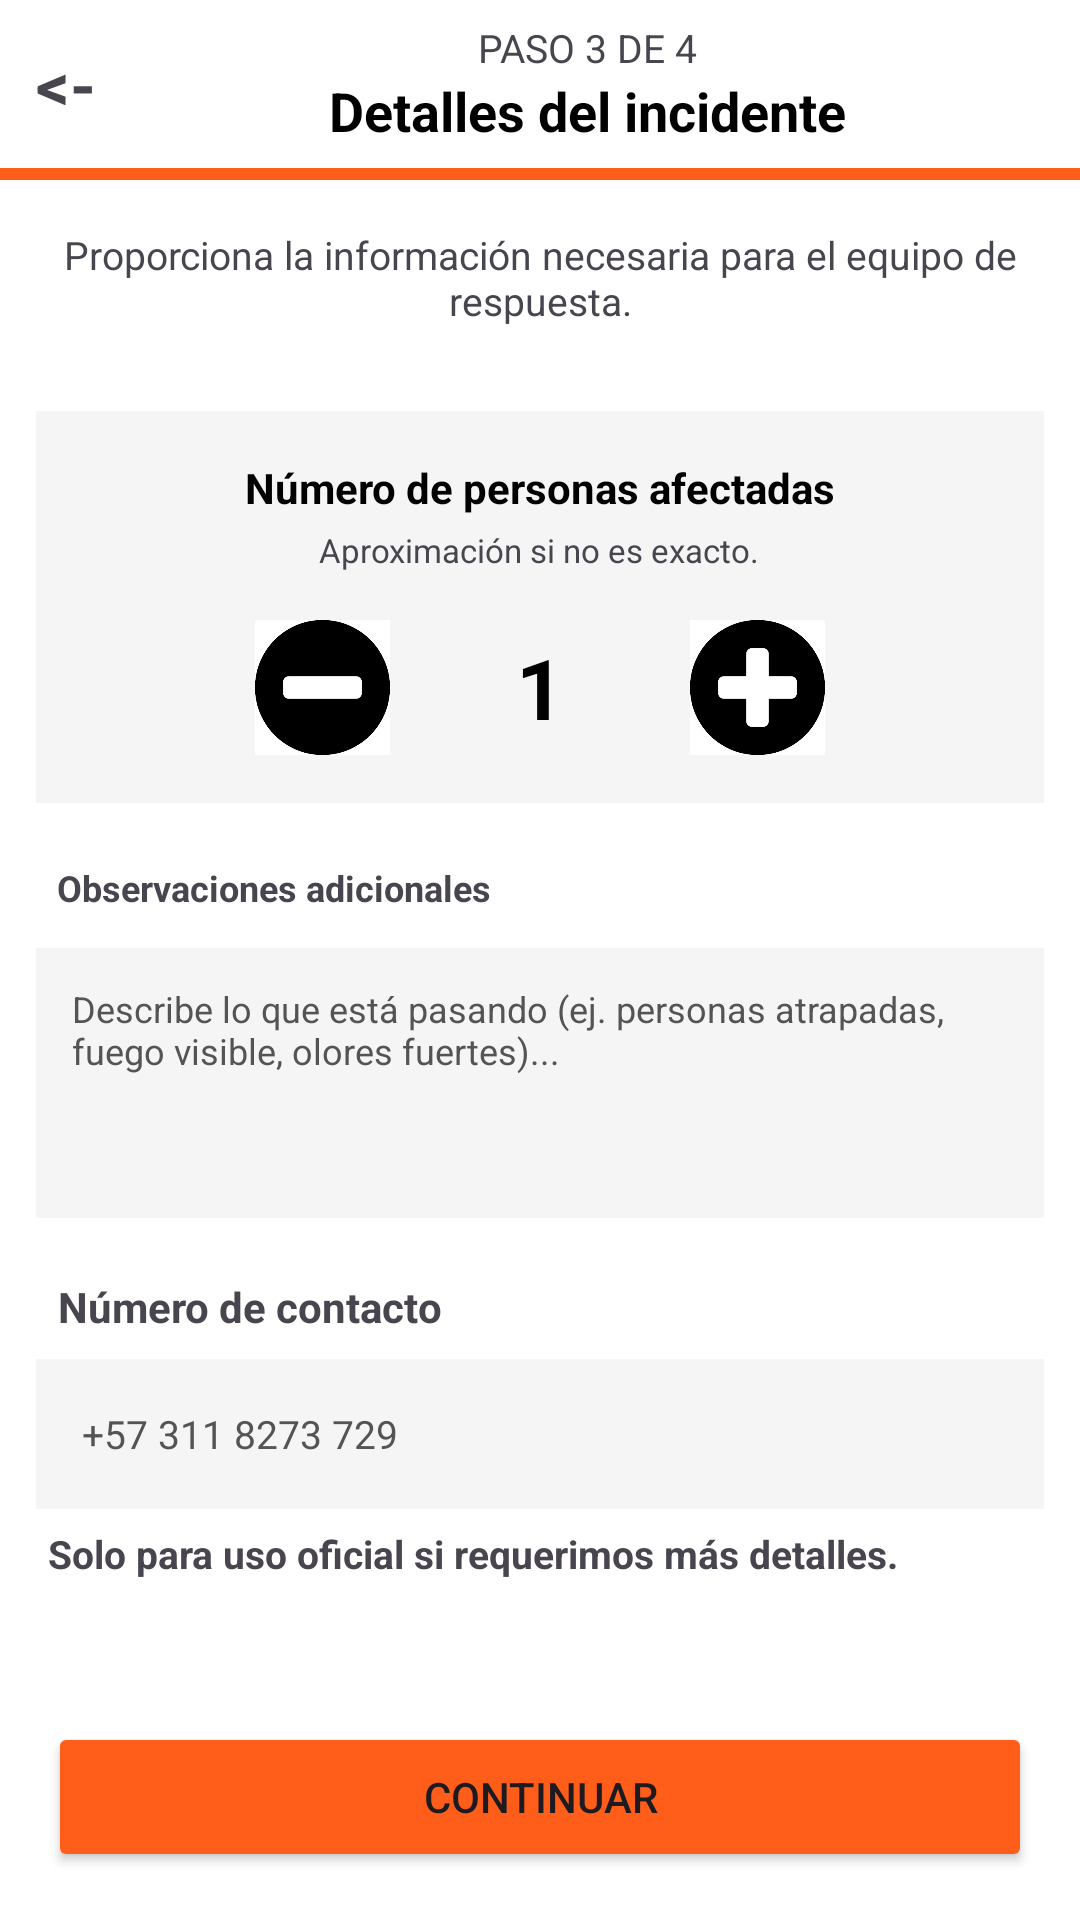

Icons on this 1080 x 1920 Android screen, each with the point to tap as point (x, y):
circulonegro: point (322, 687), point (757, 687)
